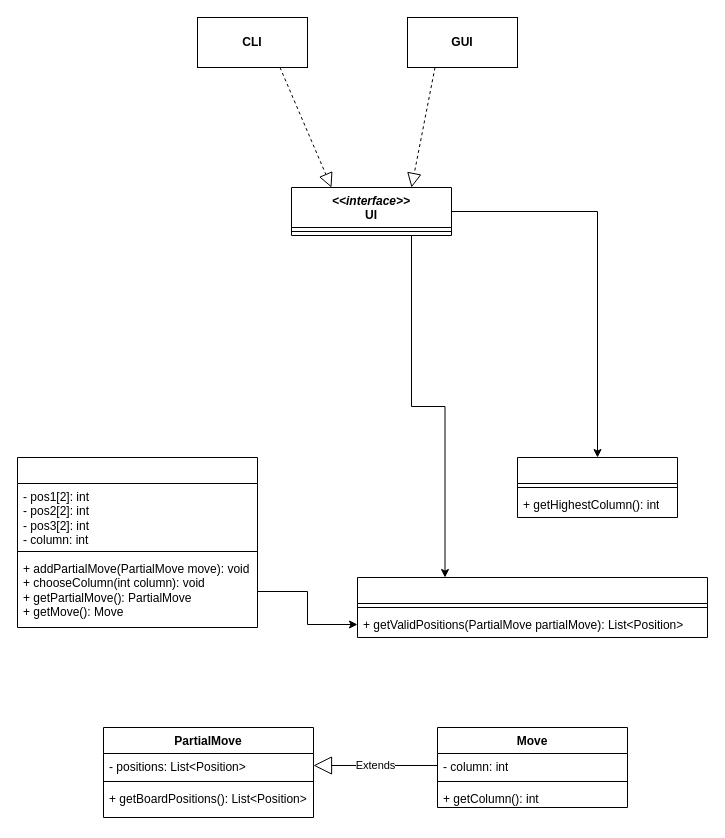
The diagram is 725 pixels wide and 838 high, and some of its shapes have lost their labels. The shapes that lost their labels are listed below. From the top down, each one's box as (x1, y1, x2, y2) in pixels, then its label:
(516, 456, 678, 518): Shelf
(16, 456, 258, 628): MoveBuilder
(356, 576, 708, 638): Board
